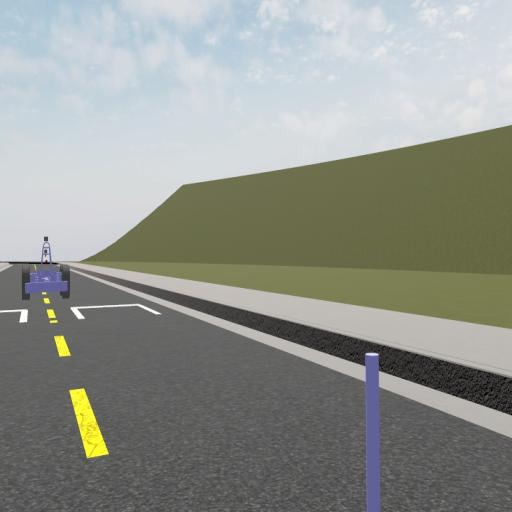ERP-42: (20, 238, 71, 298)
